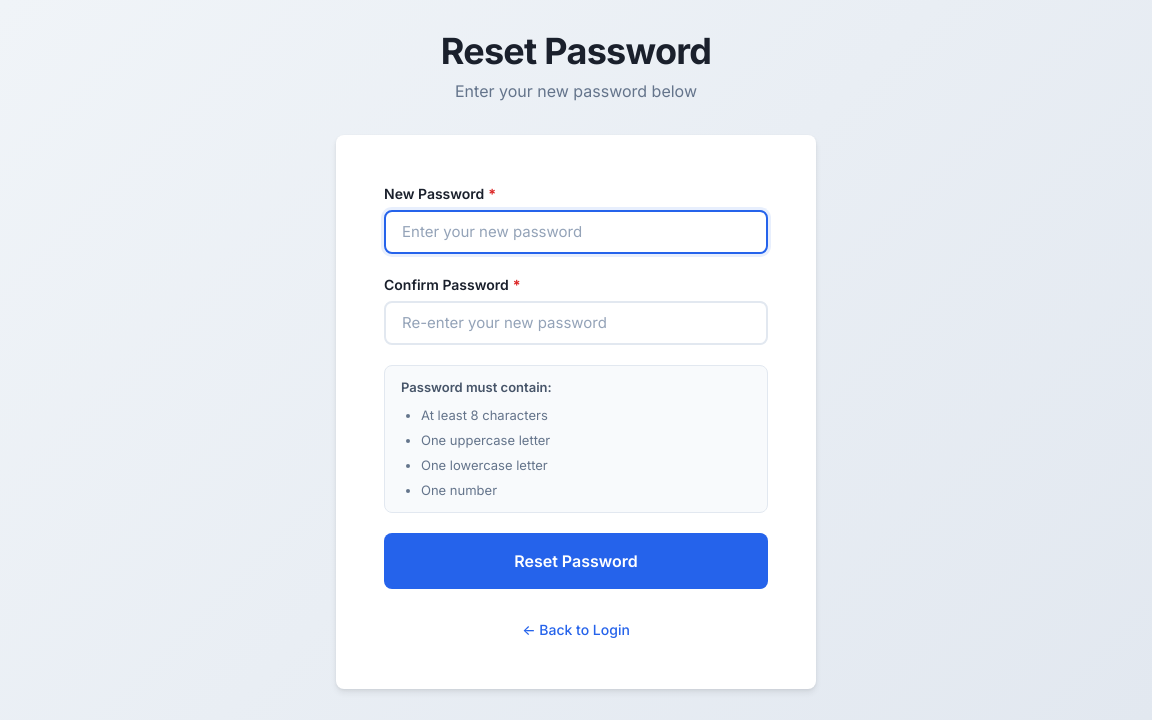
Test: ResetPasswordPage Component › Form Validation › shows error when password is too short
Step 1. Type "Short1" into the password field labelled "New Password*" → (576, 232), box [384,210,768,254]
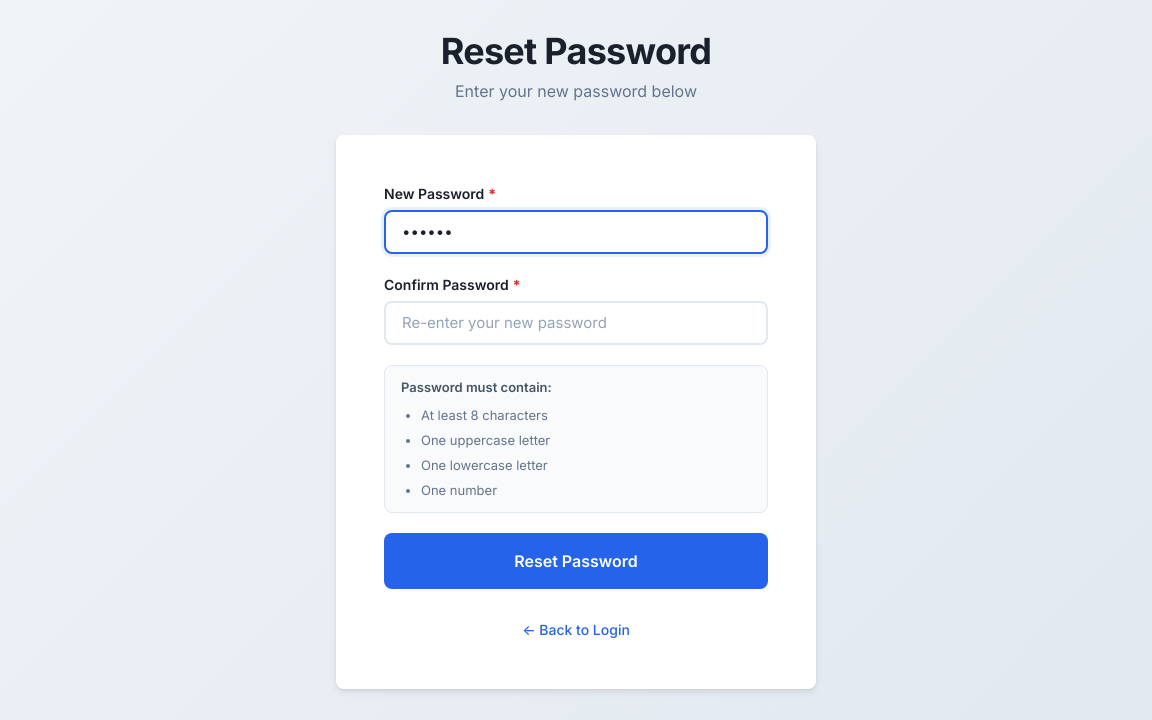
Step 2. Click the button "Reset Password" → (576, 561), box [384,533,768,589]
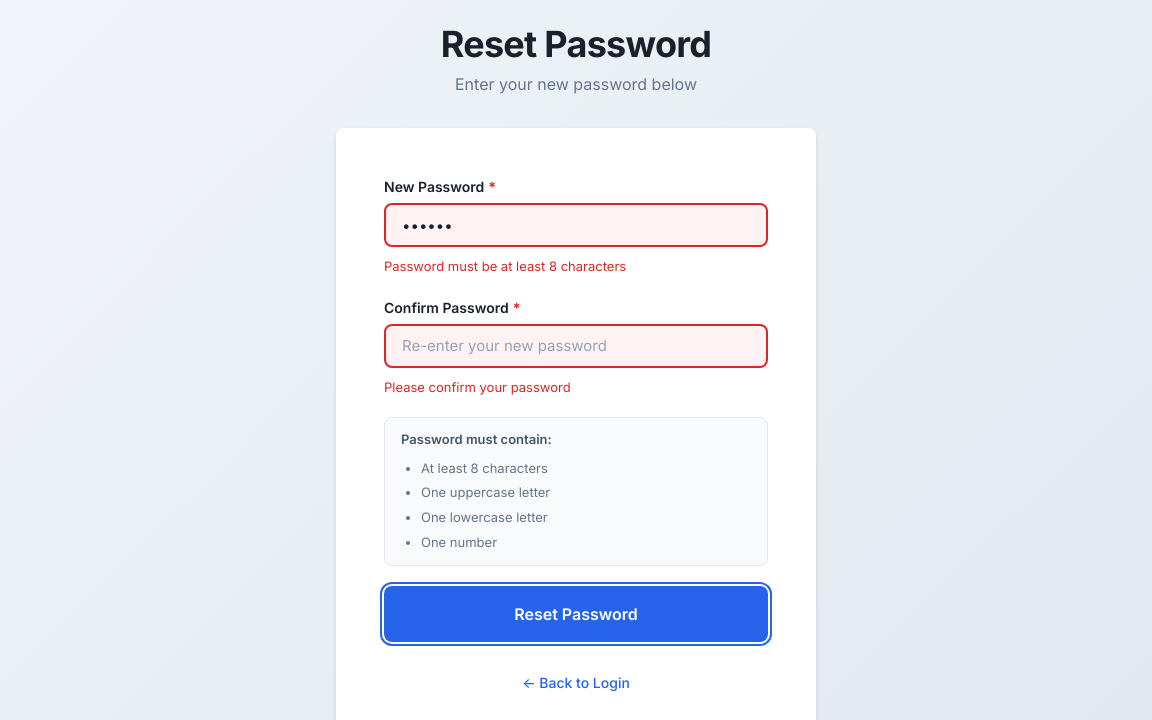
Now the text "Password must be at least 8 characters" is shown, box [384,258,626,274]
